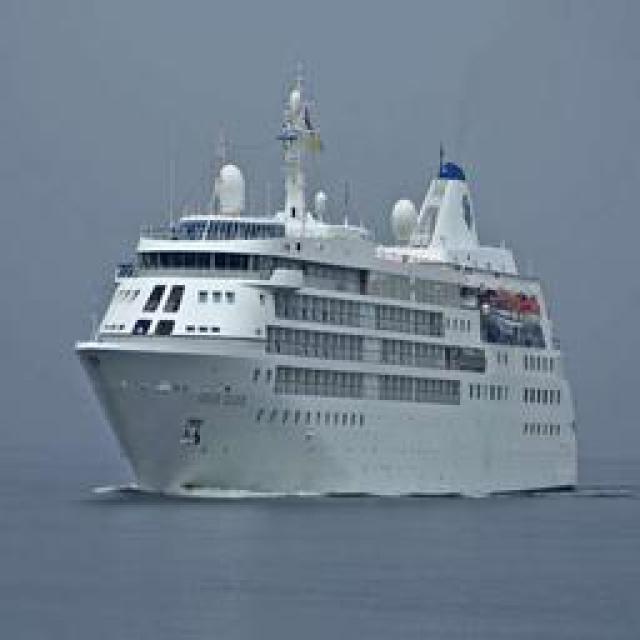Ship: (79, 70, 584, 508)
